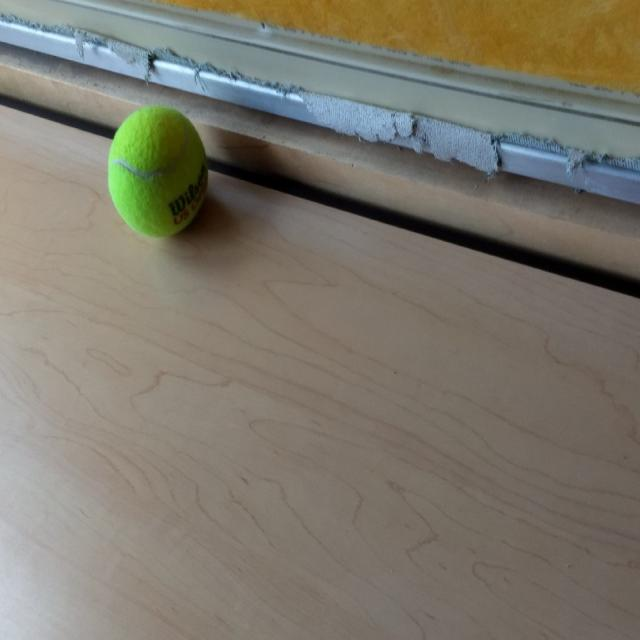Tennis-Ball: (108, 104, 210, 238)
